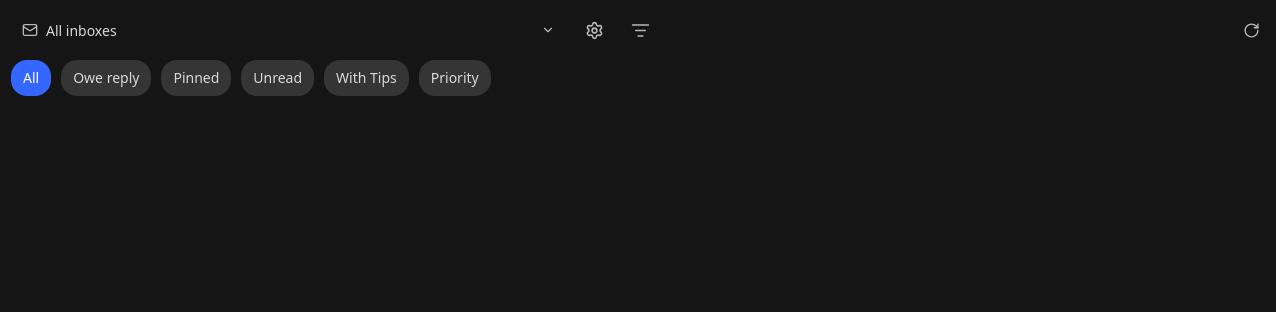
Test: FanListFilters › the gear is icon-only and its menu lists Mark all as read, Select chats, Keep fan info panel open, both blur options, Compact media previews, and no Focus mode
Click the button named "Inbox settings" at (594, 30), box x1=576 y1=12 x2=612 y2=48
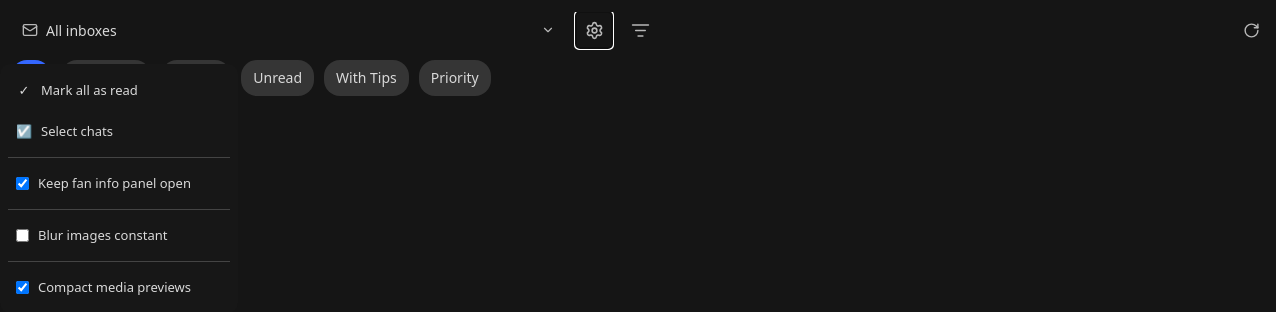
Expected: the buttons read "✓Mark all as read", "☑Select chats", in this order, x1=6 y1=70 x2=232 y2=111; x1=6 y1=111 x2=232 y2=152
